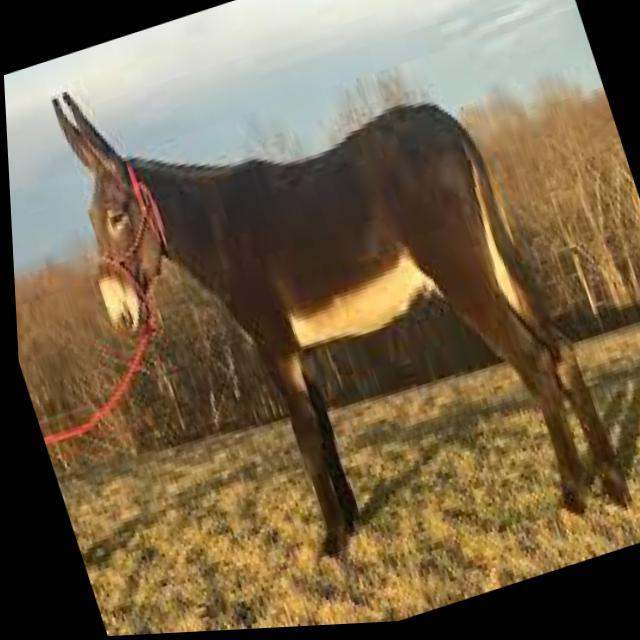Donkey: (25, 0, 640, 639)
